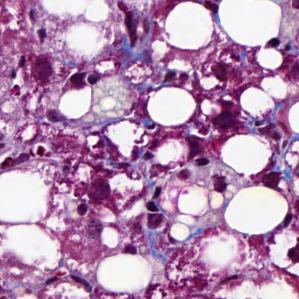inflammation: (210, 91, 241, 136), (66, 62, 103, 94), (142, 185, 171, 216), (201, 0, 224, 18), (266, 32, 281, 55), (36, 25, 49, 47)
